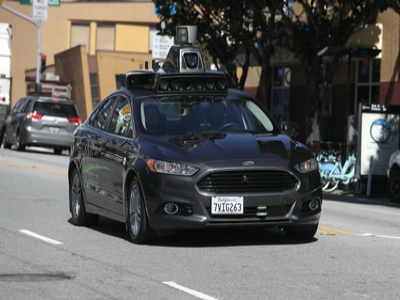licence: (212, 194, 245, 217)
